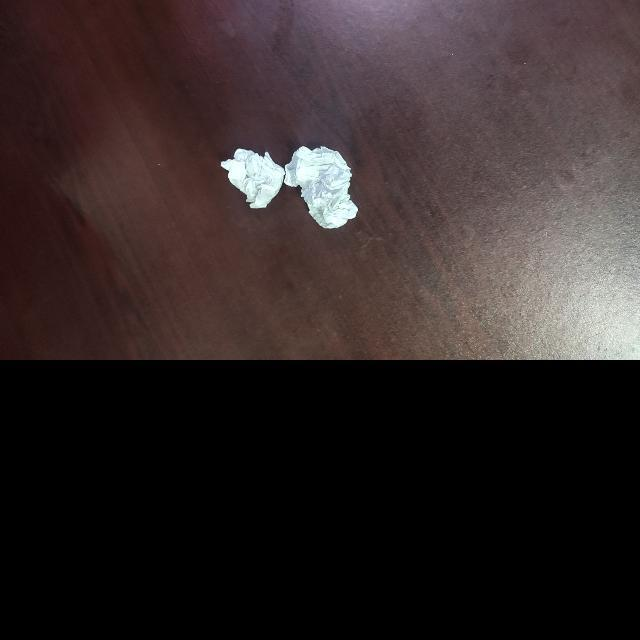kitchen paper: (282, 147, 363, 235), (223, 148, 286, 206)
